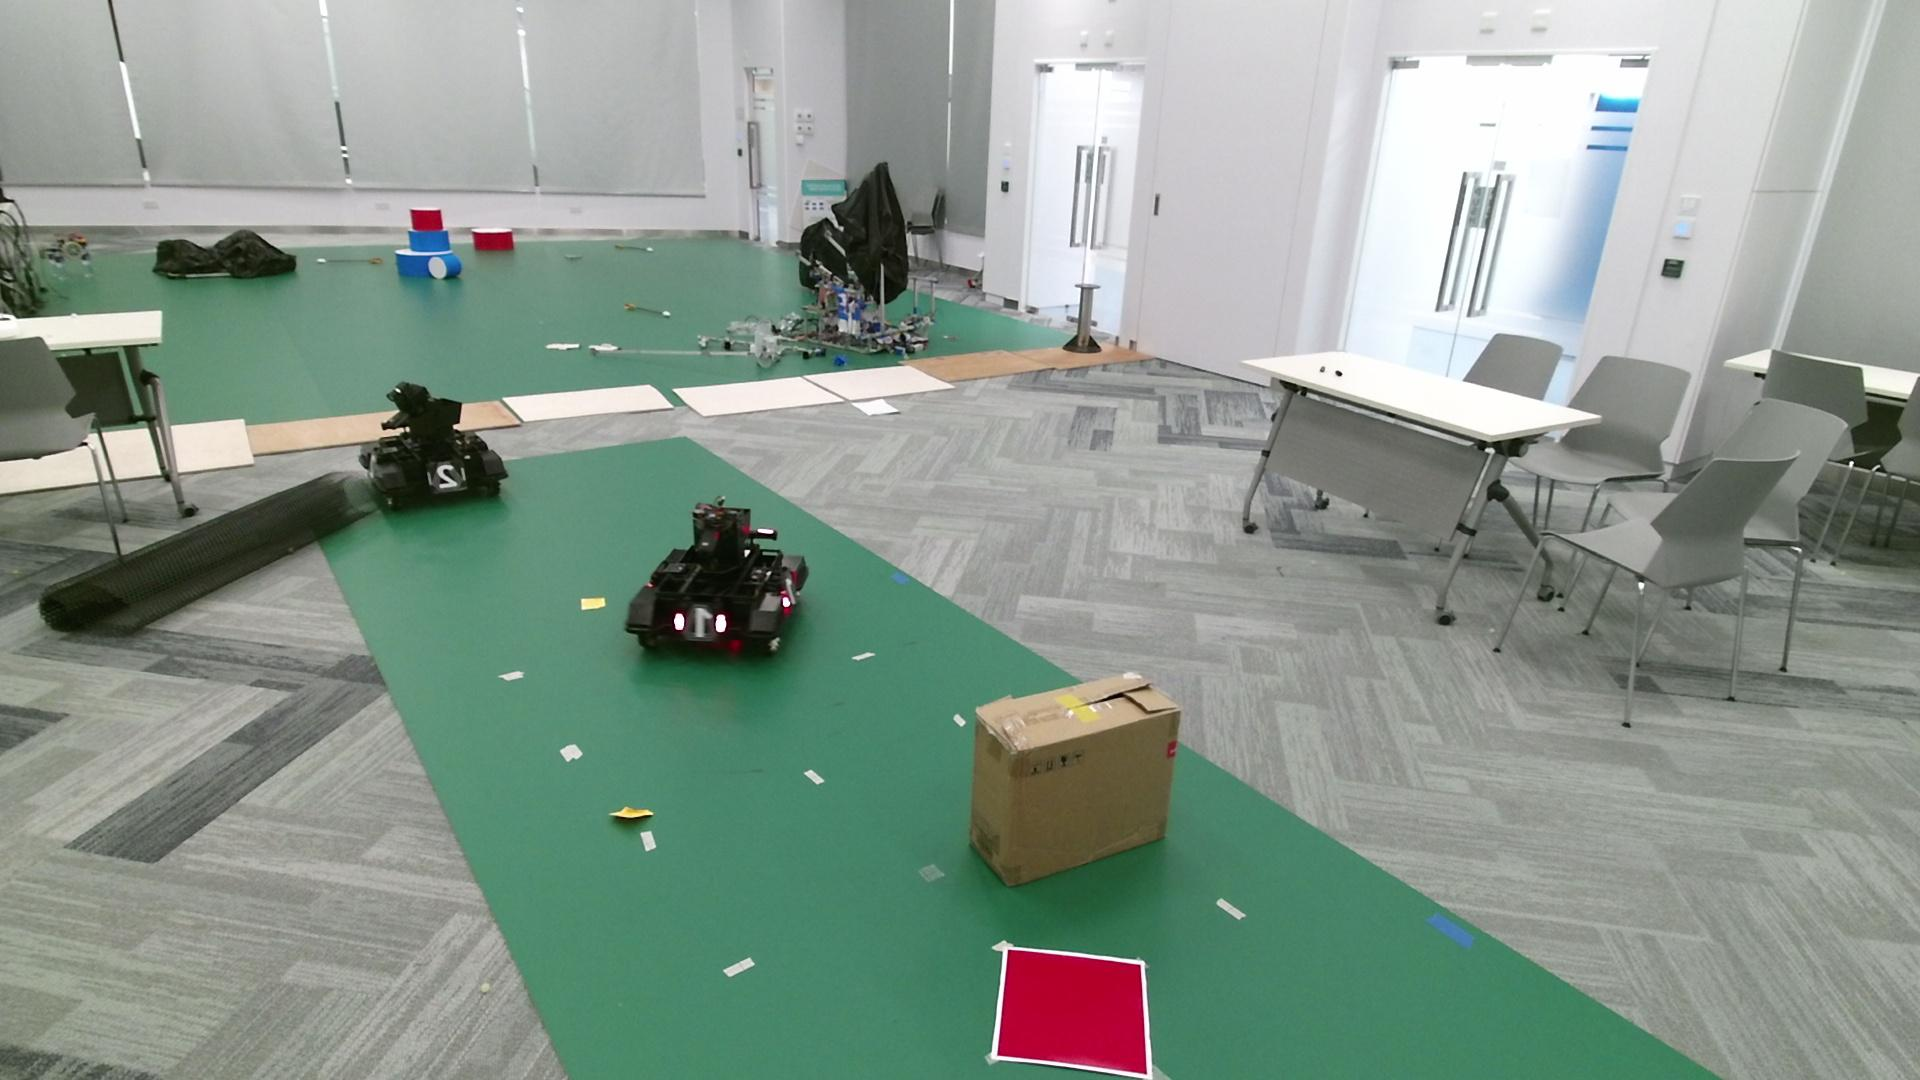robot: (625, 492, 808, 661), (357, 378, 510, 512)
